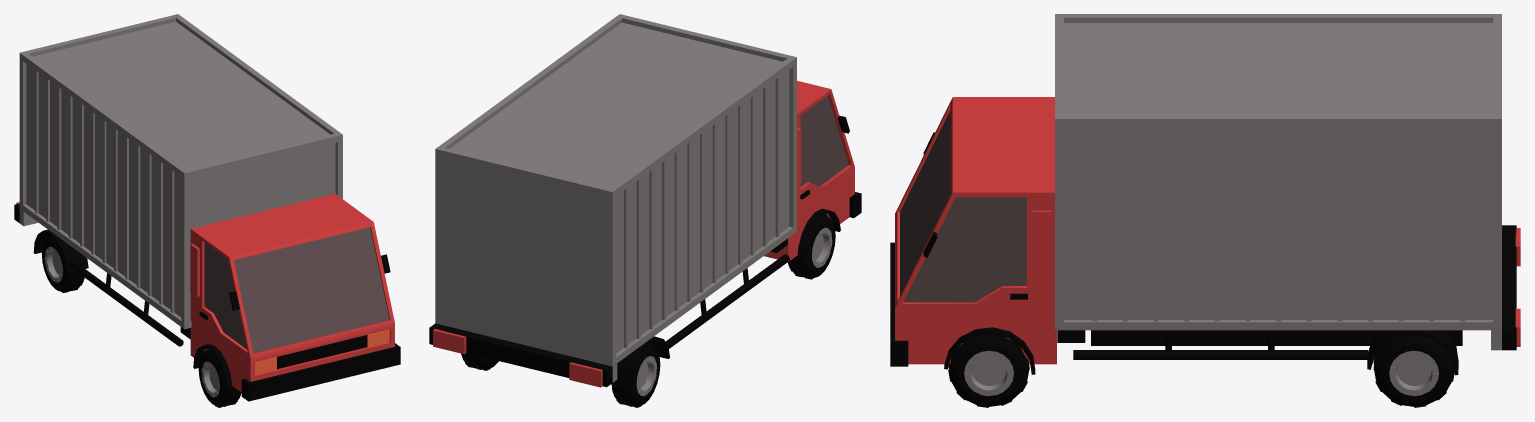
File: Truck 3.fbx
3 views of the same model, side by side, from view 1: azimuth 30°, elevation 25°; view 2: azimuth 150°, elevation 25°; view 3: azimuth 270°, elevation 25° (orthographic). The views are drawn at different scales.
Parts seen in each view (by area): view 1: body.011, tyre.021, tyre.019; view 2: body.011, tyre.021, tyre.019, tyre.018; view 3: body.011, tyre.020, tyre.018.
Boxes of the visible parts, <box> form: body.011: <box>14,14,400,401</box>; tyre.021: <box>198,350,241,407</box>; tyre.019: <box>41,235,84,292</box>; body.011: <box>429,14,861,389</box>; tyre.021: <box>787,214,835,279</box>; tyre.019: <box>611,343,660,407</box>; tyre.018: <box>461,353,498,370</box>; body.011: <box>890,14,1520,375</box>; tyre.020: <box>948,334,1029,407</box>; tyre.018: <box>1373,334,1454,407</box>.
Bounding box in the file's own units: 2.53 × 3.21 × 6.26.
